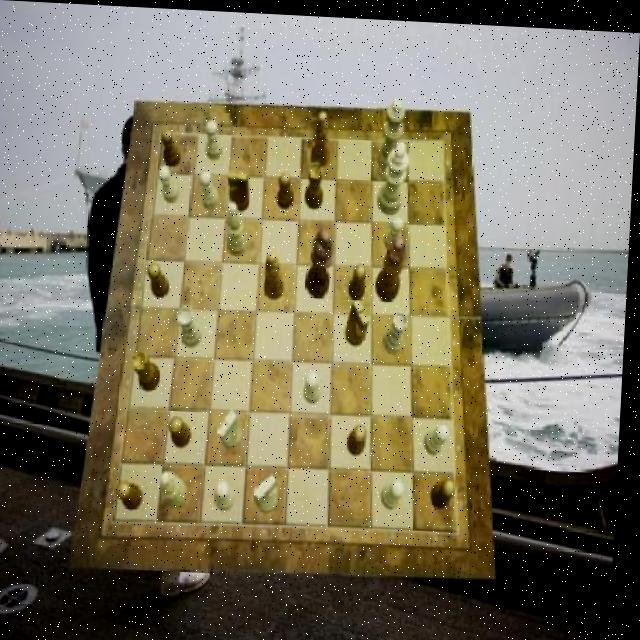bishop: (310, 108, 332, 165), (265, 249, 287, 297)
black-bishop: (308, 224, 337, 294)
black-king: (347, 295, 373, 342), (227, 168, 252, 210)
black-knight: (148, 260, 173, 296), (161, 127, 183, 166), (434, 472, 460, 504), (120, 479, 148, 508), (172, 414, 196, 447), (278, 170, 297, 207), (350, 261, 368, 297), (351, 420, 371, 451)
black-pawn: (377, 231, 410, 298)
black-queen: (134, 349, 166, 390), (305, 159, 326, 206)
black-rook: (226, 200, 251, 255), (164, 469, 192, 508)
white-bishop: (378, 136, 411, 212)
white-king: (219, 406, 247, 446), (257, 471, 283, 511)
white-knight: (159, 164, 183, 202), (199, 168, 221, 208), (427, 418, 453, 451), (386, 474, 411, 506), (206, 118, 225, 158), (385, 211, 406, 247), (218, 477, 239, 509), (308, 367, 327, 400)
white-pawn: (377, 92, 406, 168)
white-queen: (179, 305, 206, 347), (386, 307, 411, 350)
